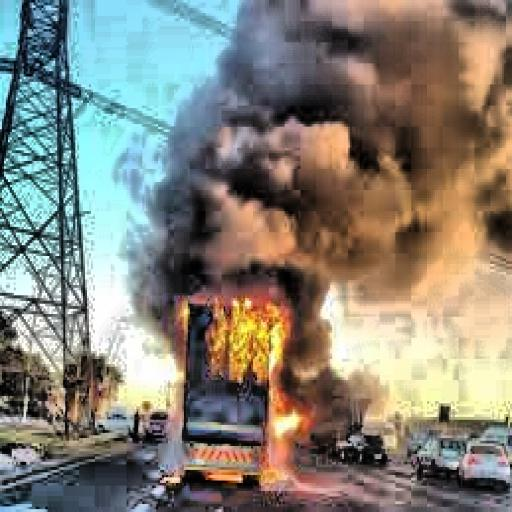fire: (176, 285, 314, 488)
